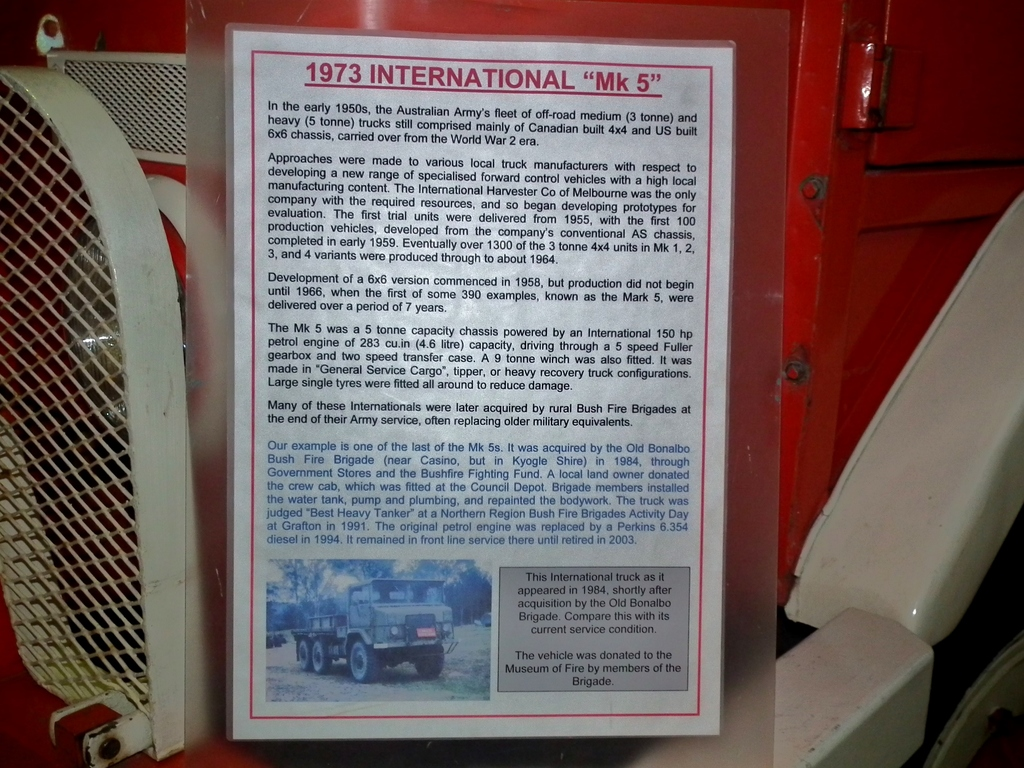truck: (283, 559, 479, 690)
